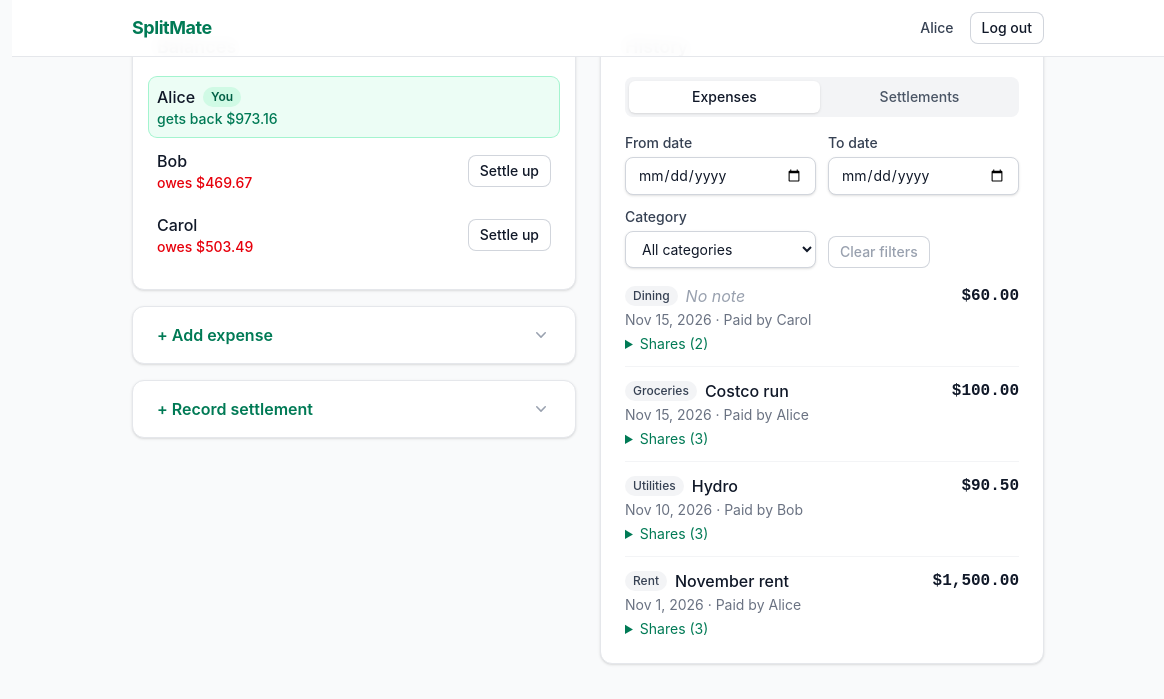
Record settlement › blocks from == to
The image size is (1164, 699).
(page scrolled)
Expected: the list named "expenses" is shown, [625,284,1019,639]
Click the button "+ Record settlement" at coordinates (235, 409), box [133,381,575,437]
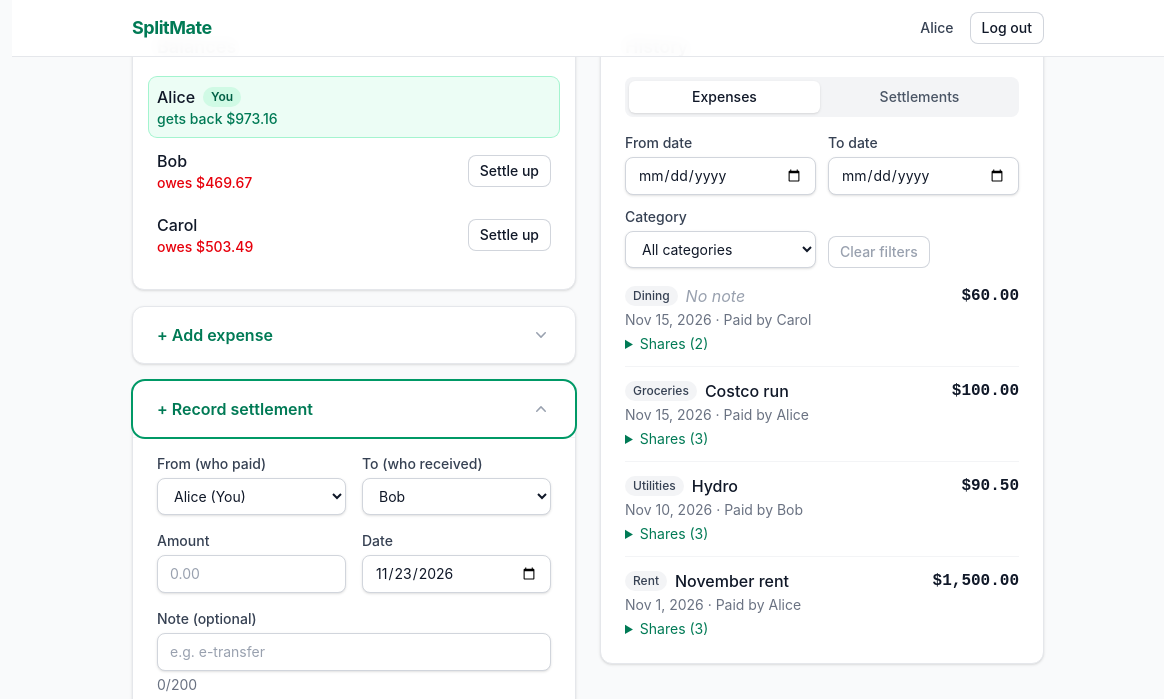
Select "Bob" in the dropdown labelled "From (who paid)" at coordinates (252, 496), box [157,478,346,515]
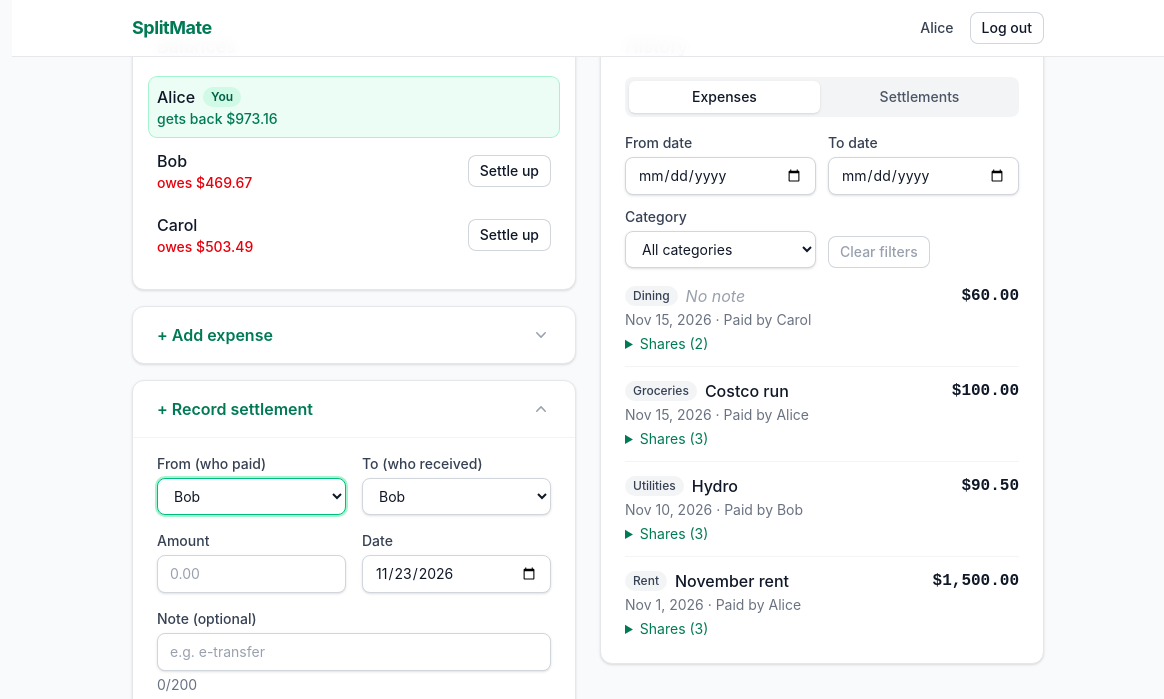
Select "Bob" in the dropdown labelled "To (who received)" at coordinates (456, 496), box [362,478,551,515]
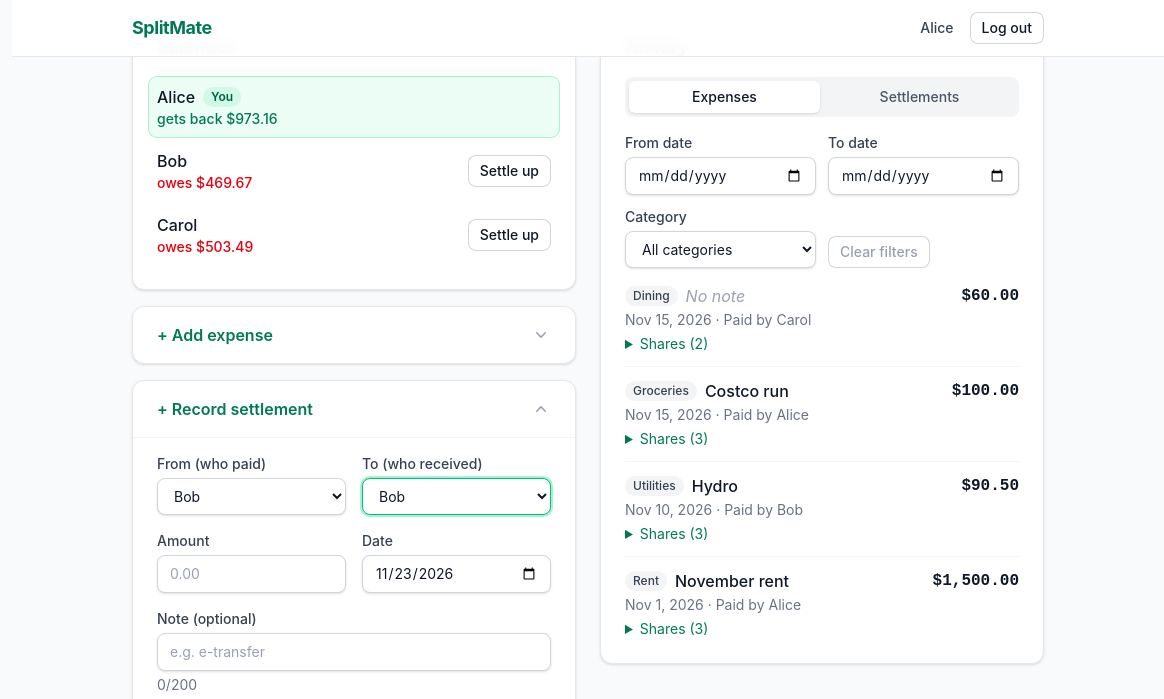
Type "10" into the field labelled "Amount" at coordinates (252, 574), box [157,555,346,593]
(page scrolled)
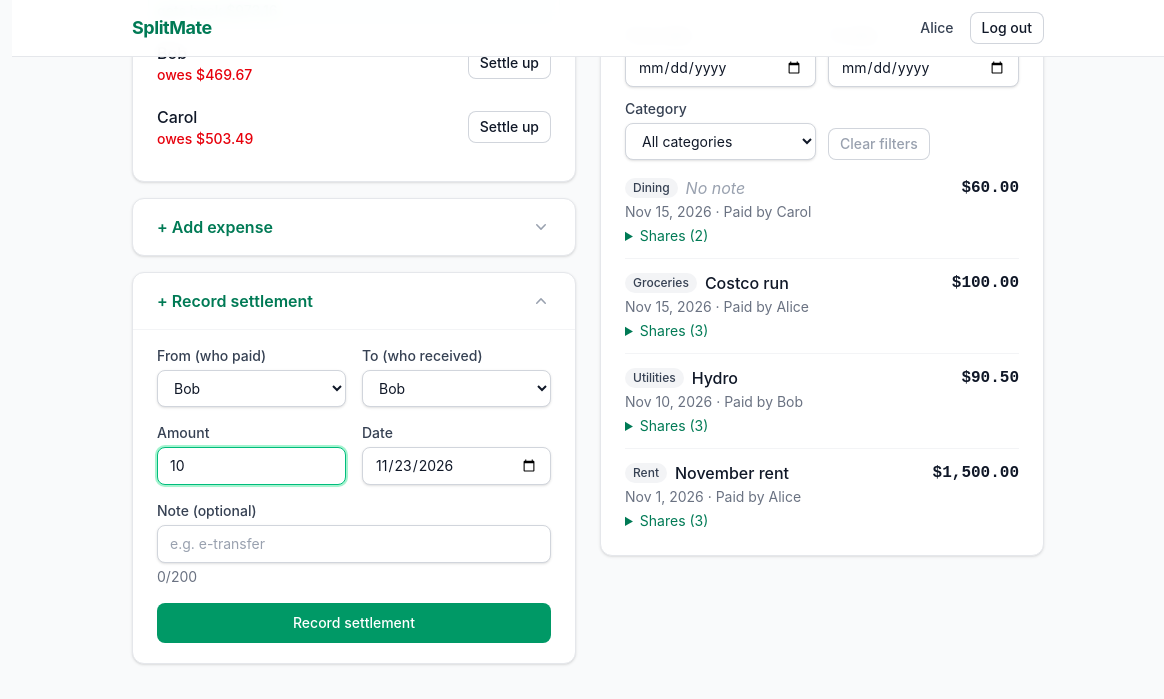
Click the button "Record settlement" at coordinates (354, 623), box [157,603,551,643]
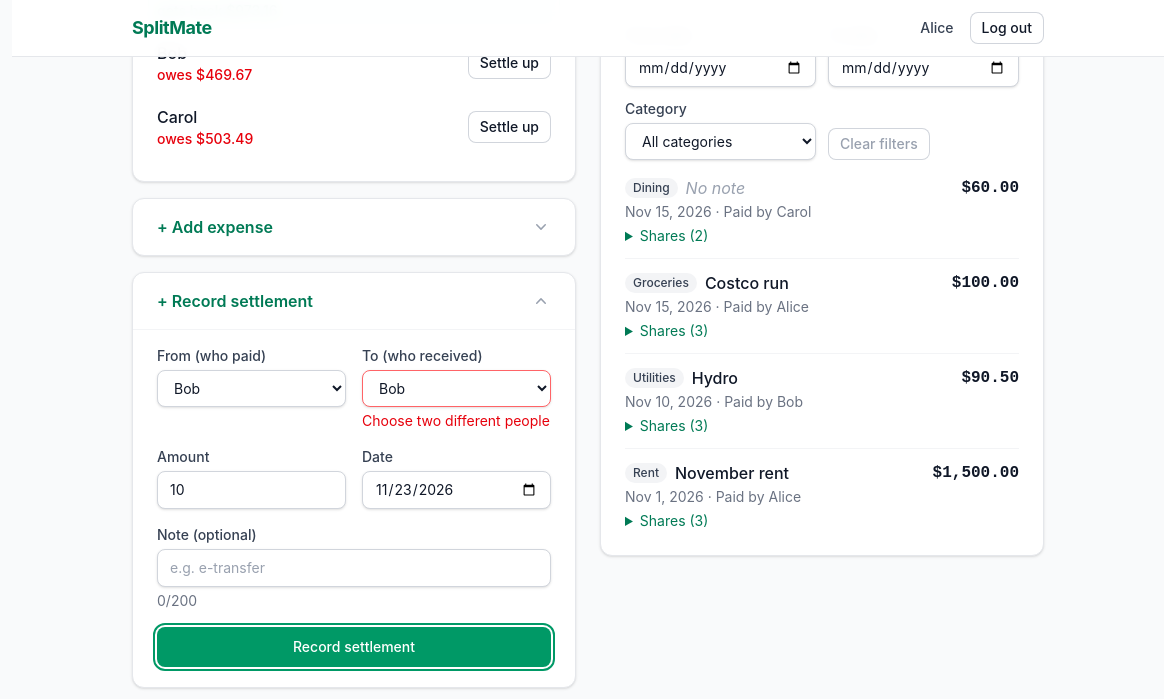
Select "Carol" in the dropdown labelled "From (who paid)" at coordinates (252, 388), box [157,370,346,407]
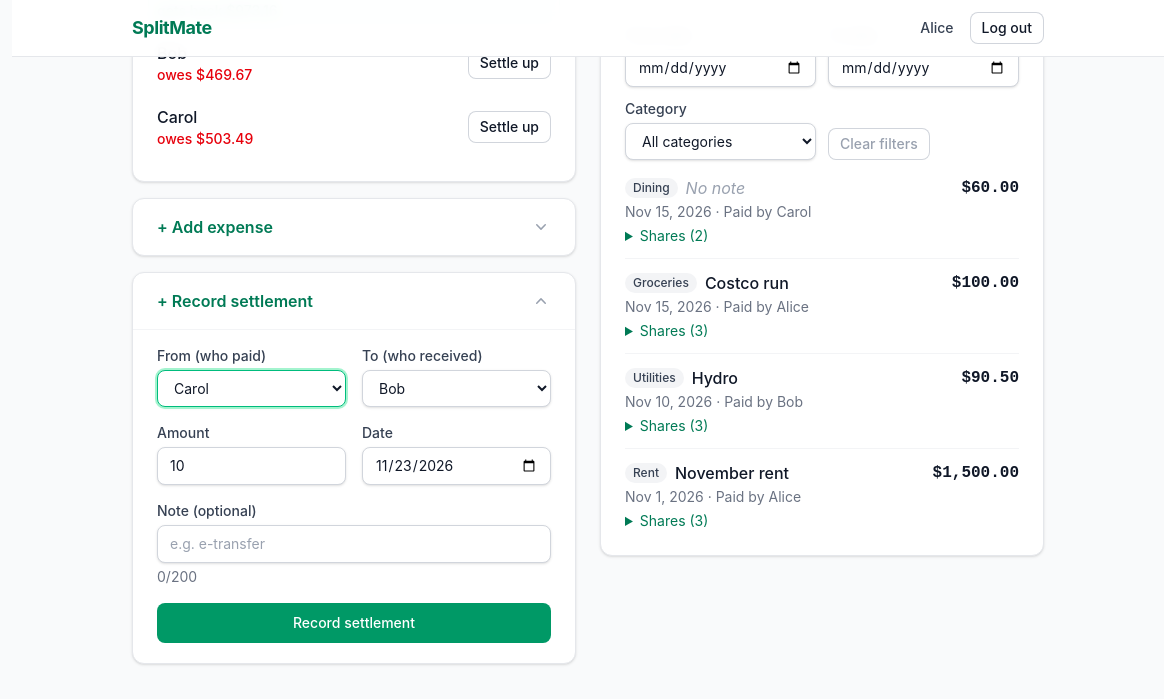
Expected: the text "Choose two different people" is gone
